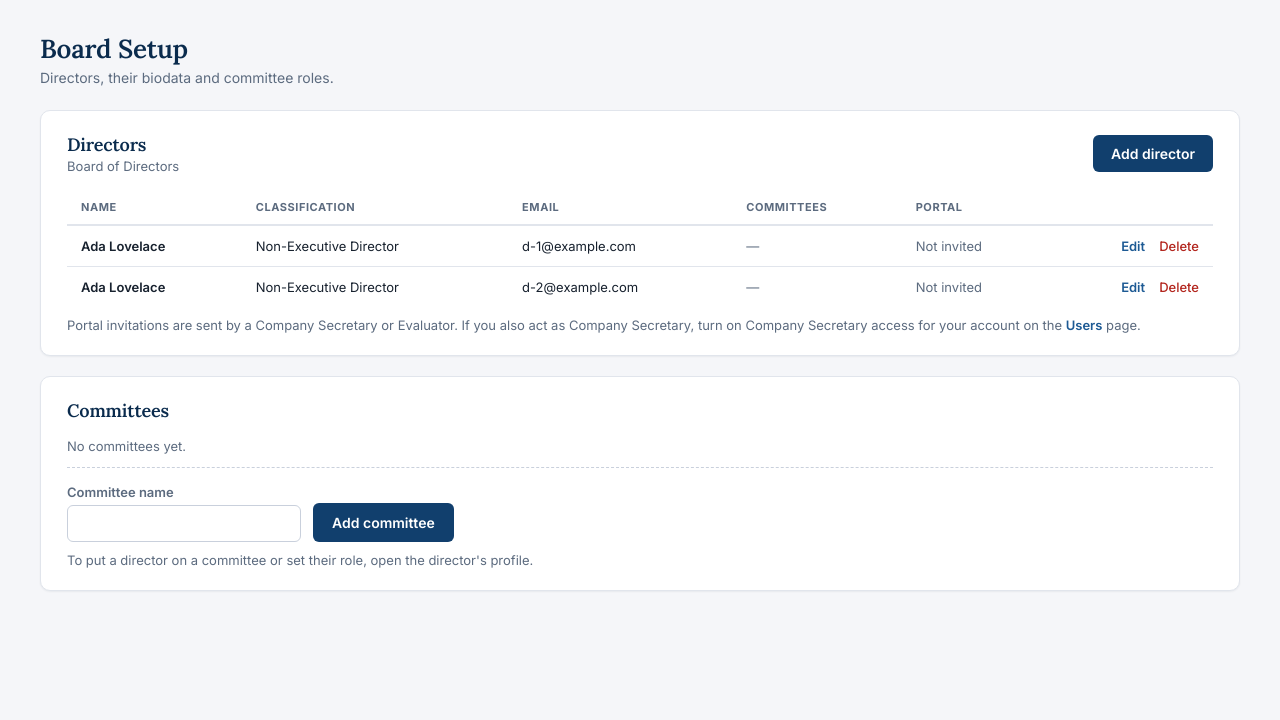
Test: BoardSetupPage delete › shows the reason when a director can't be deleted
Click the button "Delete" in the row of "d-1@example.com" at (1179, 246), box [1159, 238, 1199, 254]
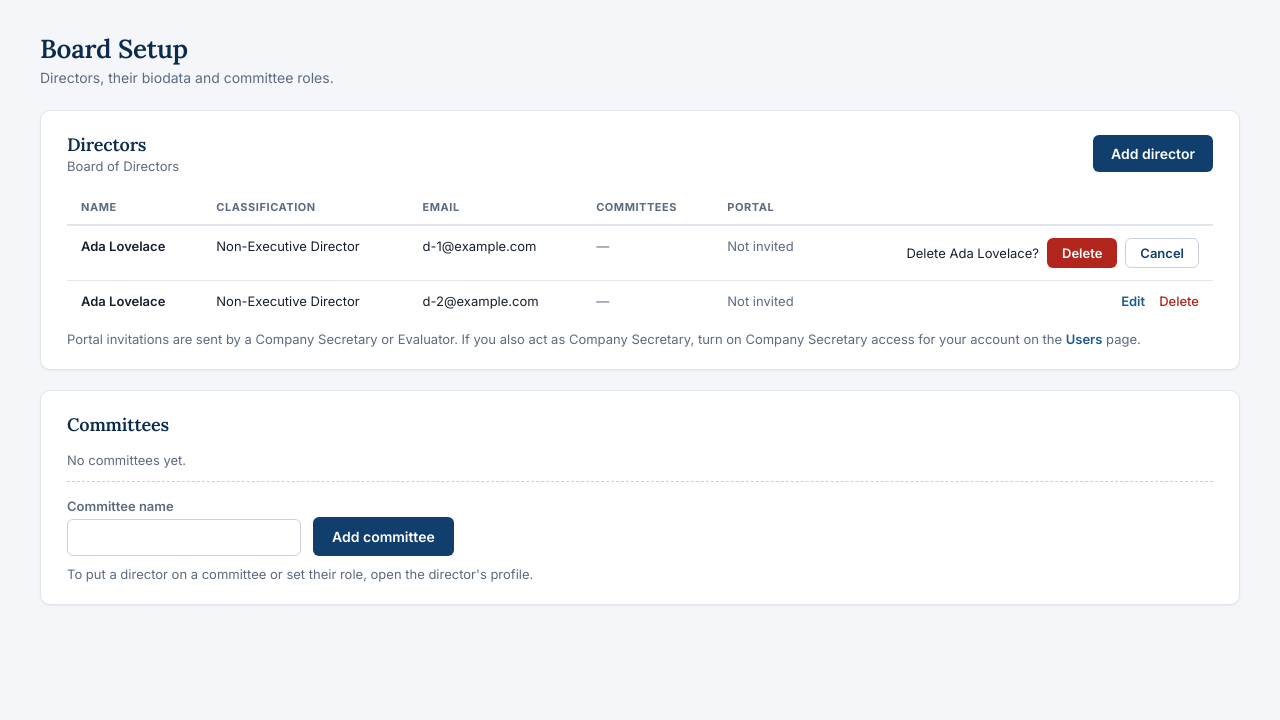
Click the button "Delete" in the row of "d-1@example.com" at (1082, 253), box [1047, 238, 1117, 268]
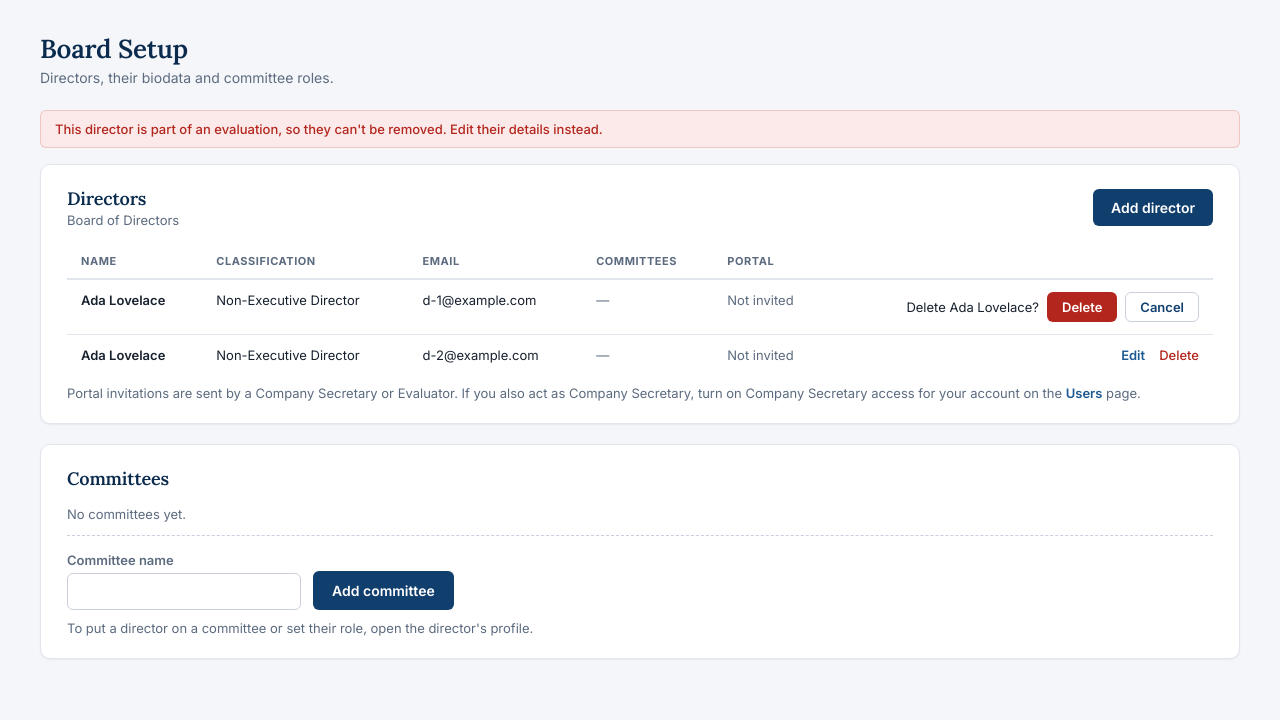
Expected: the number of links "Ada Lovelace" is 2, [81, 292, 165, 308]; [81, 347, 165, 363]
Expected: the text "part of an evaluation" is shown, [55, 121, 603, 137]
